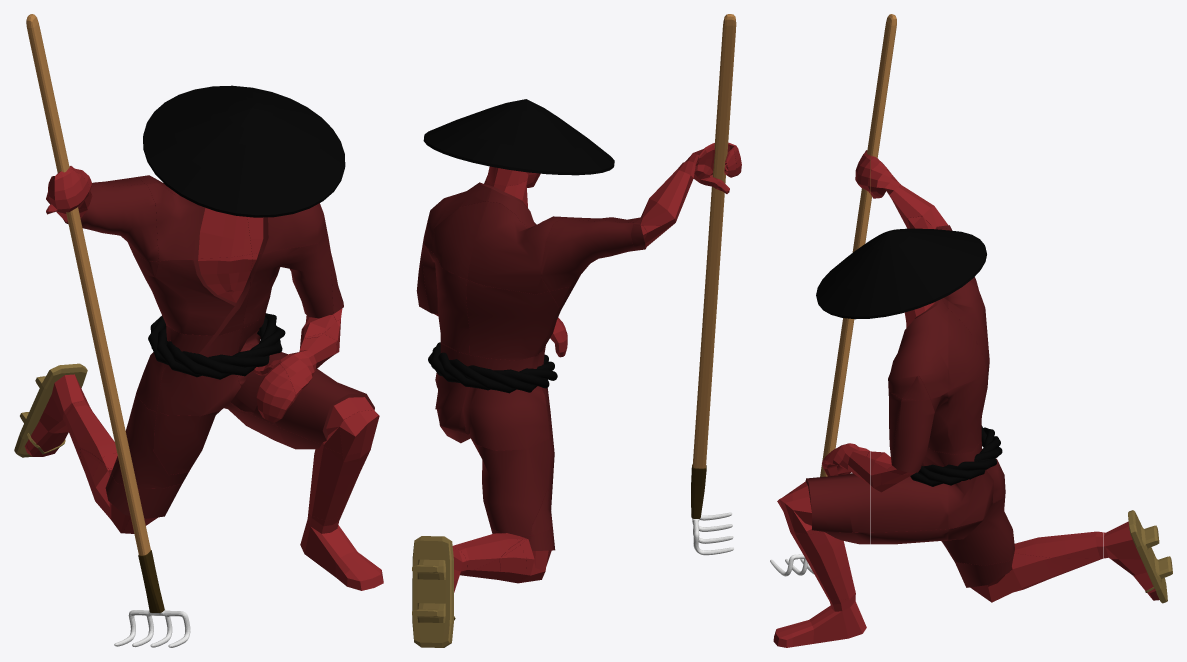
File: Explosion_Ragdoll_Spearman.fbx
3 renders of one model, left to right at view 1: azimuth 30°, elevation 25°; view 2: azimuth 150°, elevation 25°; view 3: azimuth 270°, elevation 25°, orthographic. The views are drawn at different scales.
Visible parts, largest first — view 1: Kasa.001, Pitchfork.001, BaseModel.054, BaseModel.080, BaseModel.048, BaseModel.061, BaseModel.055, BaseModel.049, BaseModel.076, BaseModel.060, Sash.001, BaseModel.085 (+10 smaller); view 2: Kasa.001, Pitchfork.001, BaseModel.048, BaseModel.057, BaseModel.031, BaseModel.065, BaseModel.051, BaseModel.064, BaseModel.092, Sash.001, BaseModel.066, BaseModel.058 (+8 smaller); view 3: Kasa.001, BaseModel.048, BaseModel.080, Pitchfork.001, BaseModel.062, BaseModel.076, BaseModel.050, BaseModel.031, BaseModel.092, BaseModel.071, BaseModel.058, BaseModel.052 (+7 smaller).
Boxes of the visible parts, x1,y1,x2,y2 form: Kasa.001: [143, 85, 345, 217]; Pitchfork.001: [26, 14, 190, 647]; BaseModel.054: [146, 254, 252, 335]; BaseModel.080: [300, 444, 383, 590]; BaseModel.048: [14, 363, 116, 463]; BaseModel.061: [146, 182, 251, 261]; BaseModel.055: [243, 234, 335, 337]; BaseModel.049: [157, 327, 253, 415]; BaseModel.076: [275, 371, 378, 453]; BaseModel.060: [80, 183, 158, 261]; Sash.001: [148, 313, 285, 379]; BaseModel.085: [254, 333, 336, 422]; Kasa.001: [423, 99, 614, 175]; Pitchfork.001: [691, 14, 736, 555]; BaseModel.048: [412, 533, 518, 647]; BaseModel.057: [466, 280, 560, 360]; BaseModel.031: [468, 434, 553, 535]; BaseModel.065: [467, 202, 560, 294]; BaseModel.051: [463, 354, 550, 450]; BaseModel.064: [541, 218, 634, 291]; BaseModel.092: [631, 142, 741, 250]; Sash.001: [428, 342, 557, 393]; BaseModel.066: [431, 201, 487, 279]; BaseModel.058: [430, 251, 469, 354]; Kasa.001: [816, 228, 986, 319]; BaseModel.048: [1026, 510, 1172, 603]; BaseModel.080: [773, 531, 866, 647]; Pitchfork.001: [770, 14, 896, 576]; BaseModel.062: [888, 299, 948, 398]; BaseModel.076: [792, 473, 870, 534]; BaseModel.050: [870, 448, 948, 532]; BaseModel.031: [948, 490, 1014, 565]; BaseModel.092: [855, 150, 952, 230]; BaseModel.071: [887, 399, 934, 474]; BaseModel.058: [948, 366, 987, 454]; BaseModel.052: [948, 441, 993, 528].
Bounding box in the file's own units: 147 × 264 × 181.
